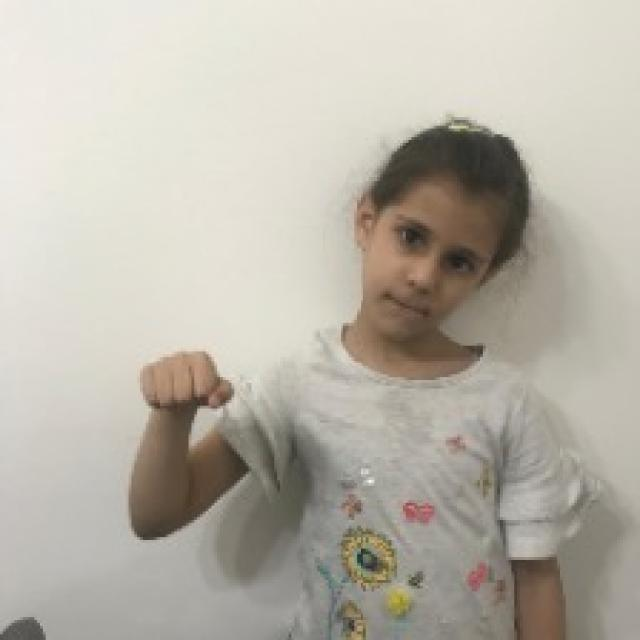yes: (135, 341, 240, 416)
